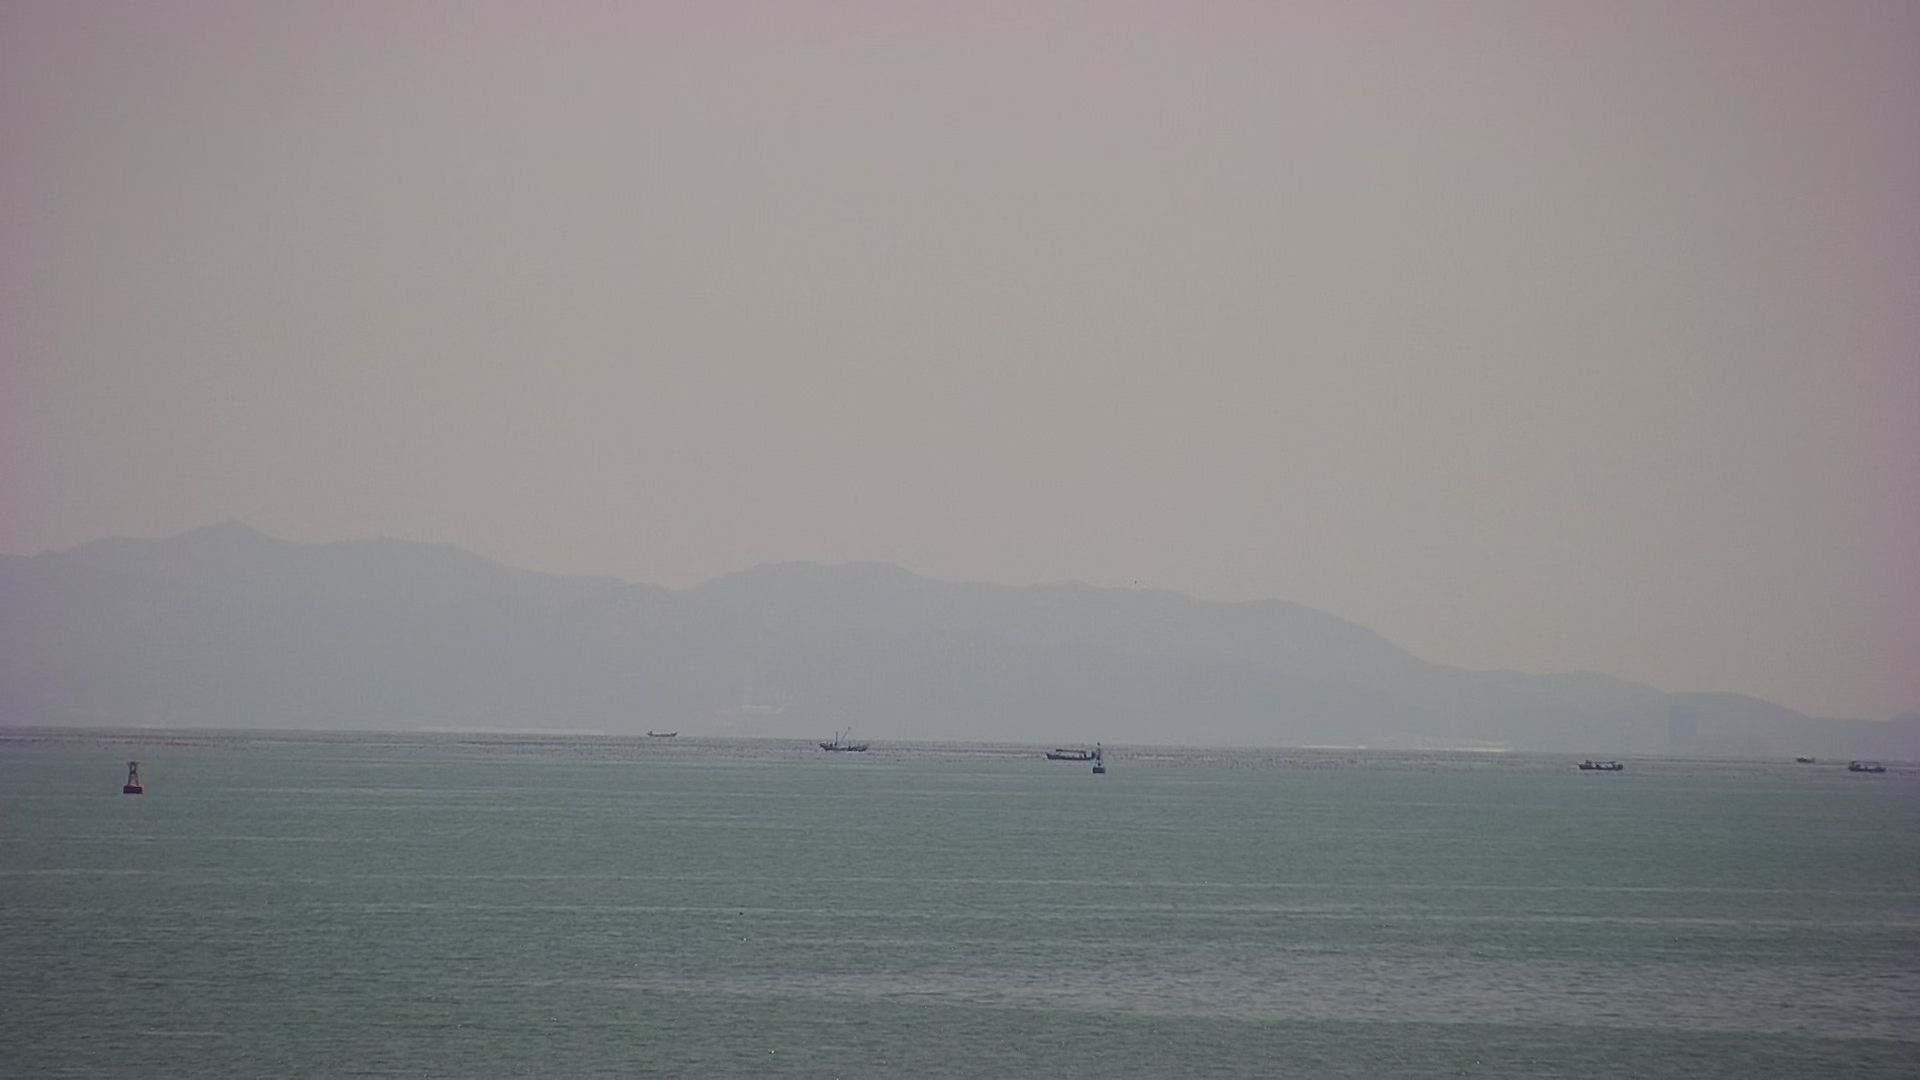boat: (818, 731, 874, 754), (1044, 746, 1097, 764), (1580, 756, 1629, 774), (1844, 760, 1888, 774)
buoy: (115, 758, 146, 796), (1093, 742, 1108, 775)
